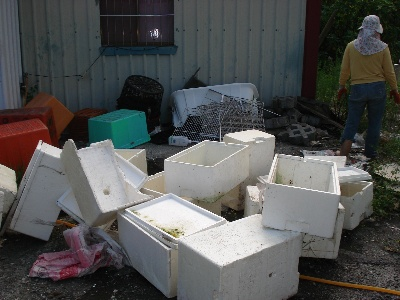box: (1, 117, 52, 171), (88, 109, 151, 148)
plastic_bag: (42, 231, 124, 272)
plate: (336, 166, 372, 184)
styrofoam: (116, 192, 230, 298), (175, 214, 303, 300), (59, 138, 151, 225), (262, 153, 340, 239), (163, 139, 249, 200), (11, 141, 63, 240), (221, 128, 275, 210), (342, 182, 375, 232)
tub: (168, 82, 259, 125)
